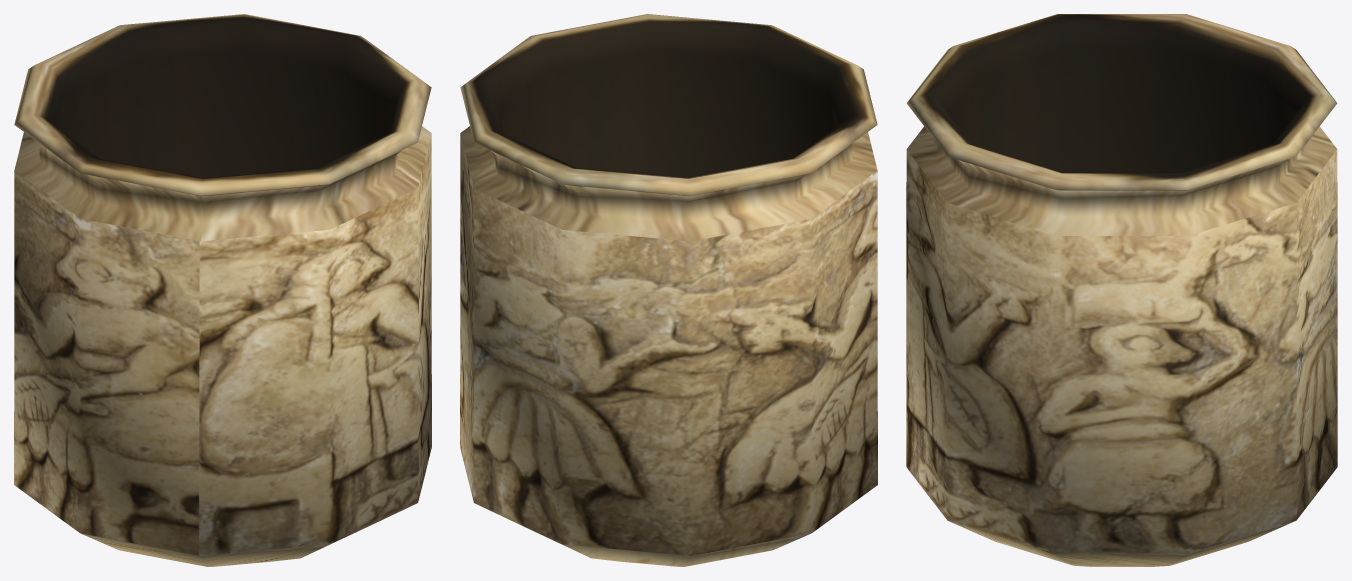
The model's file is pot_1.glb.
The picture shows the model from 3 angles, left to right: view 1: azimuth 30°, elevation 25°; view 2: azimuth 150°, elevation 25°; view 3: azimuth 270°, elevation 25°; orthographic projection.
Parts seen in each view (by area): view 1: Cylinder; view 2: Cylinder; view 3: Cylinder.
Part boxes in pixels (x1,y1,x2,y2): Cylinder: (14, 14, 431, 566); Cylinder: (460, 14, 877, 566); Cylinder: (906, 14, 1337, 566).
Bounding box in the file's own units: 2.89 × 3.37 × 3.04.
Materials: 1 (1 with a texture image).
